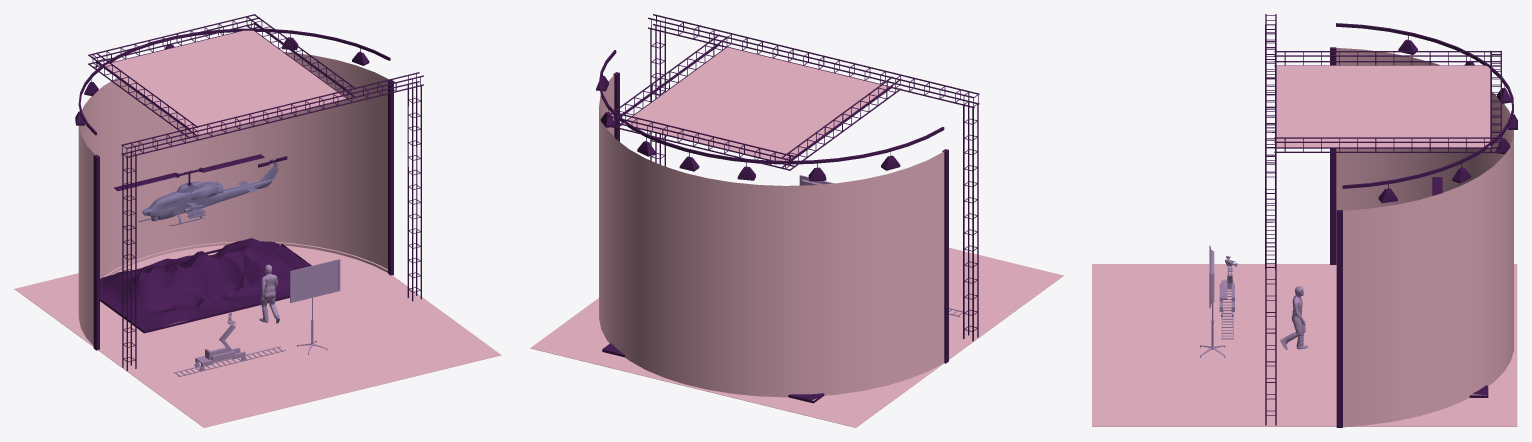
File: virtual_production_without_animation.glb
3 views of the same model, side by side, from view 1: azimuth 30°, elevation 25°; view 2: azimuth 150°, elevation 25°; view 3: azimuth 270°, elevation 25° (orthographic). The views are drawn at different scales.
Parts seen in each view (by area): view 1: model; view 2: model; view 3: model.
Boxes of the visible parts, bbox=[...] form: model: bbox=[14, 14, 501, 427]; model: bbox=[530, 14, 1063, 427]; model: bbox=[1092, 14, 1517, 427].
Size of the model in its own units: 17.42 by 12.36 by 19.07.
